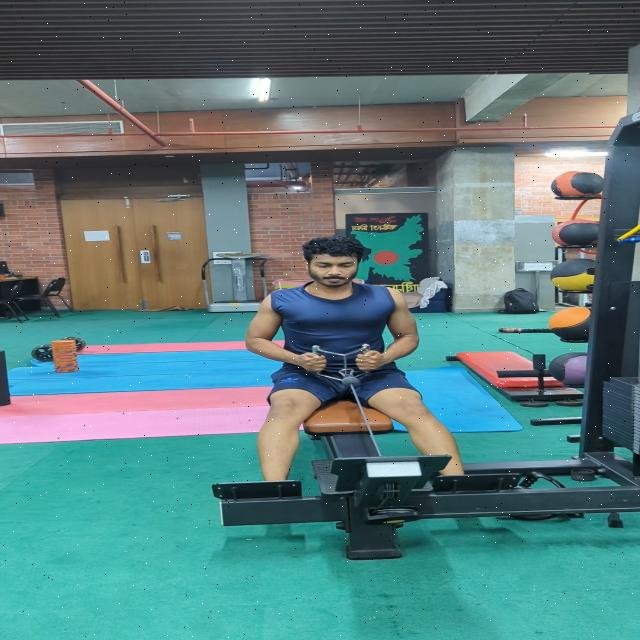Normal_RowingMachineExercise: (241, 234, 468, 492)
